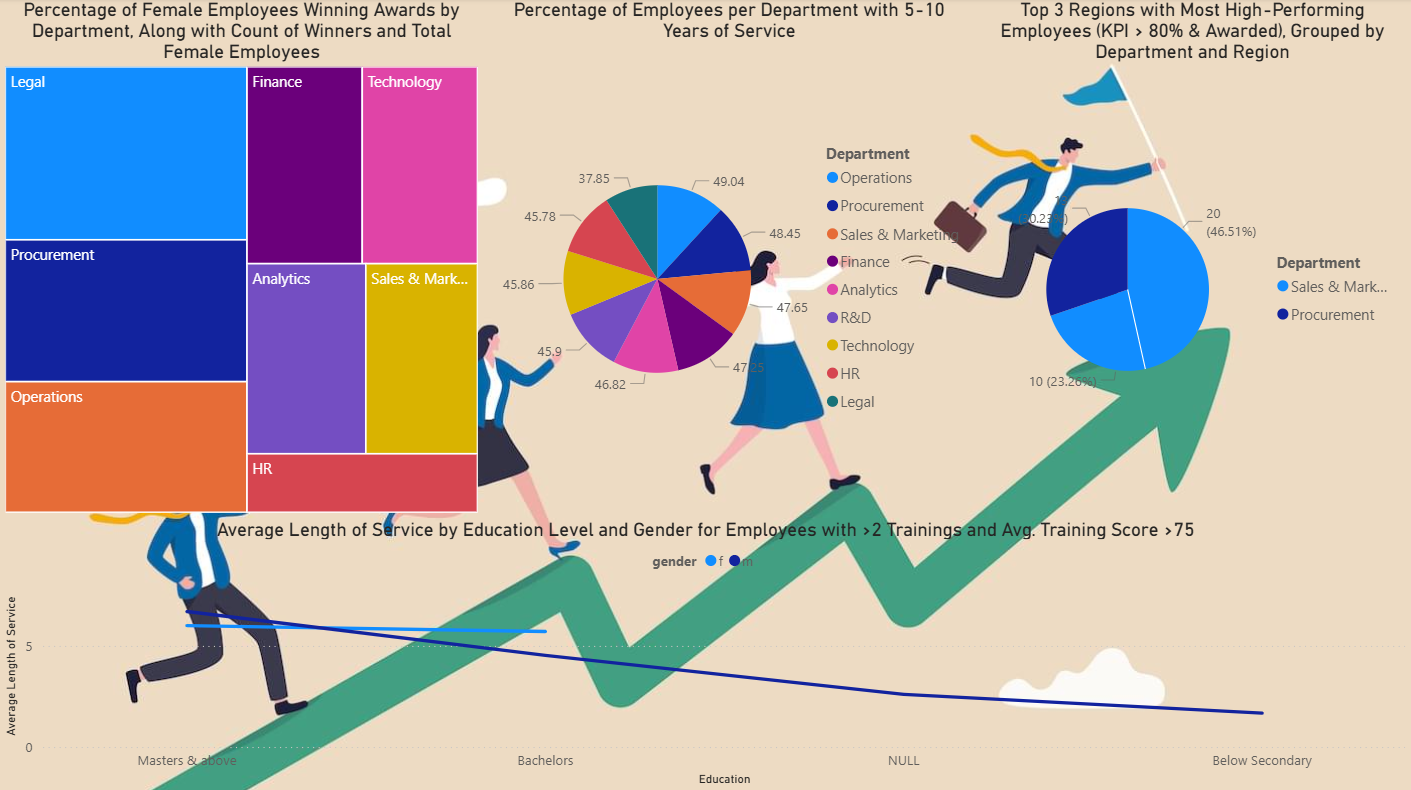

The dashboard page shown, as its layout file describes it:
{"tool":"powerbi","page":{"name":"Page 3","canvas":[1280,720],"ordinal":2},"visuals":[{"type":"treemap","title":"Percentage of Female Employees Winning Awards by Department, Along with Count of Winners and Total Female Employees","fields":{"Group":["9.department"],"Values":["Sum(9.percentage_female_awarded)"]},"box":[0,0,438.5,471.9],"z":0},{"type":"pieChart","title":"Percentage of Employees per Department with 5-10 Years of Service","fields":{"Category":["10.department"],"Y":["Sum(10.percentage)"]},"box":[438.5,0,445.4,471.9],"z":1000},{"type":"pieChart","title":"Top 3 Regions with Most High-Performing Employees (KPI > 80% & Awarded), Grouped by Department and Region","fields":{"Category":["11.department"],"Y":["Sum(11.num_employees)"],"Series":["11.region"]},"box":[883.9,0,396.7,471.9],"z":2000},{"type":"lineChart","title":"Average Length of Service by Education Level and Gender for Employees with >2 Trainings and Avg. Training Score >75","fields":{"Category":["12.education"],"Y":["Sum(12.average_length_of_service)"],"Series":["12.gender"]},"box":[0,471.9,1280.6,247.8],"z":3000}]}

Visuals, with their boxes in screenshot pixels (x1, y1, x2, y2), scaled from the page's 1280x720 canvas onto the 1411x790 screenshot:
"Percentage of Female Employees Winning Awards by Department, Along with Count of Winners and Total Female Employees" treemap: [0, 0, 483, 518]
"Percentage of Employees per Department with 5-10 Years of Service" pieChart: [483, 0, 974, 518]
"Top 3 Regions with Most High-Performing Employees (KPI > 80% & Awarded), Grouped by Department and Region" pieChart: [974, 0, 1410, 518]
"Average Length of Service by Education Level and Gender for Employees with >2 Trainings and Avg. Training Score >75" lineChart: [0, 518, 1410, 789]
